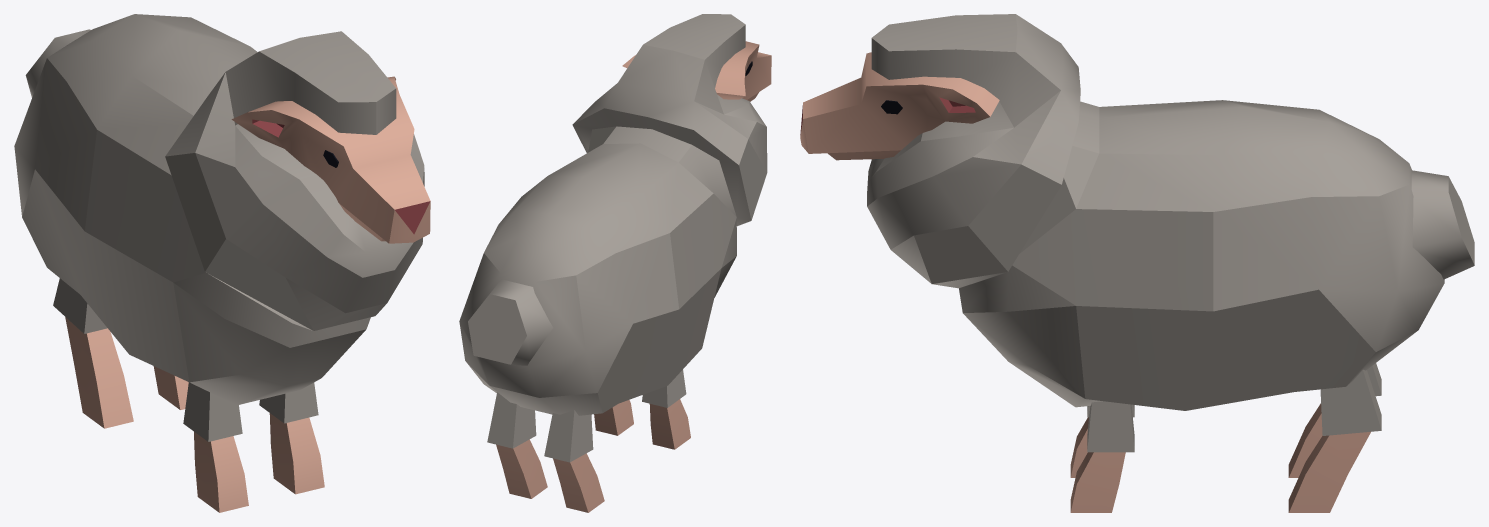
The model's file is Sheep.fbx.
3 renders of one model, left to right at view 1: azimuth 30°, elevation 25°; view 2: azimuth 150°, elevation 25°; view 3: azimuth 270°, elevation 25°, orthographic. The views are drawn at different scales.
Parts seen in each view (by area): view 1: Sheep; view 2: Sheep; view 3: Sheep.
Part boxes in pixels (x1=…): Sheep: x1=14, y1=14, x2=430, y2=512; Sheep: x1=459, y1=14, x2=771, y2=512; Sheep: x1=800, y1=14, x2=1474, y2=512.
Bounding box in the file's own units: 16.4 × 34.07 × 45.4.
